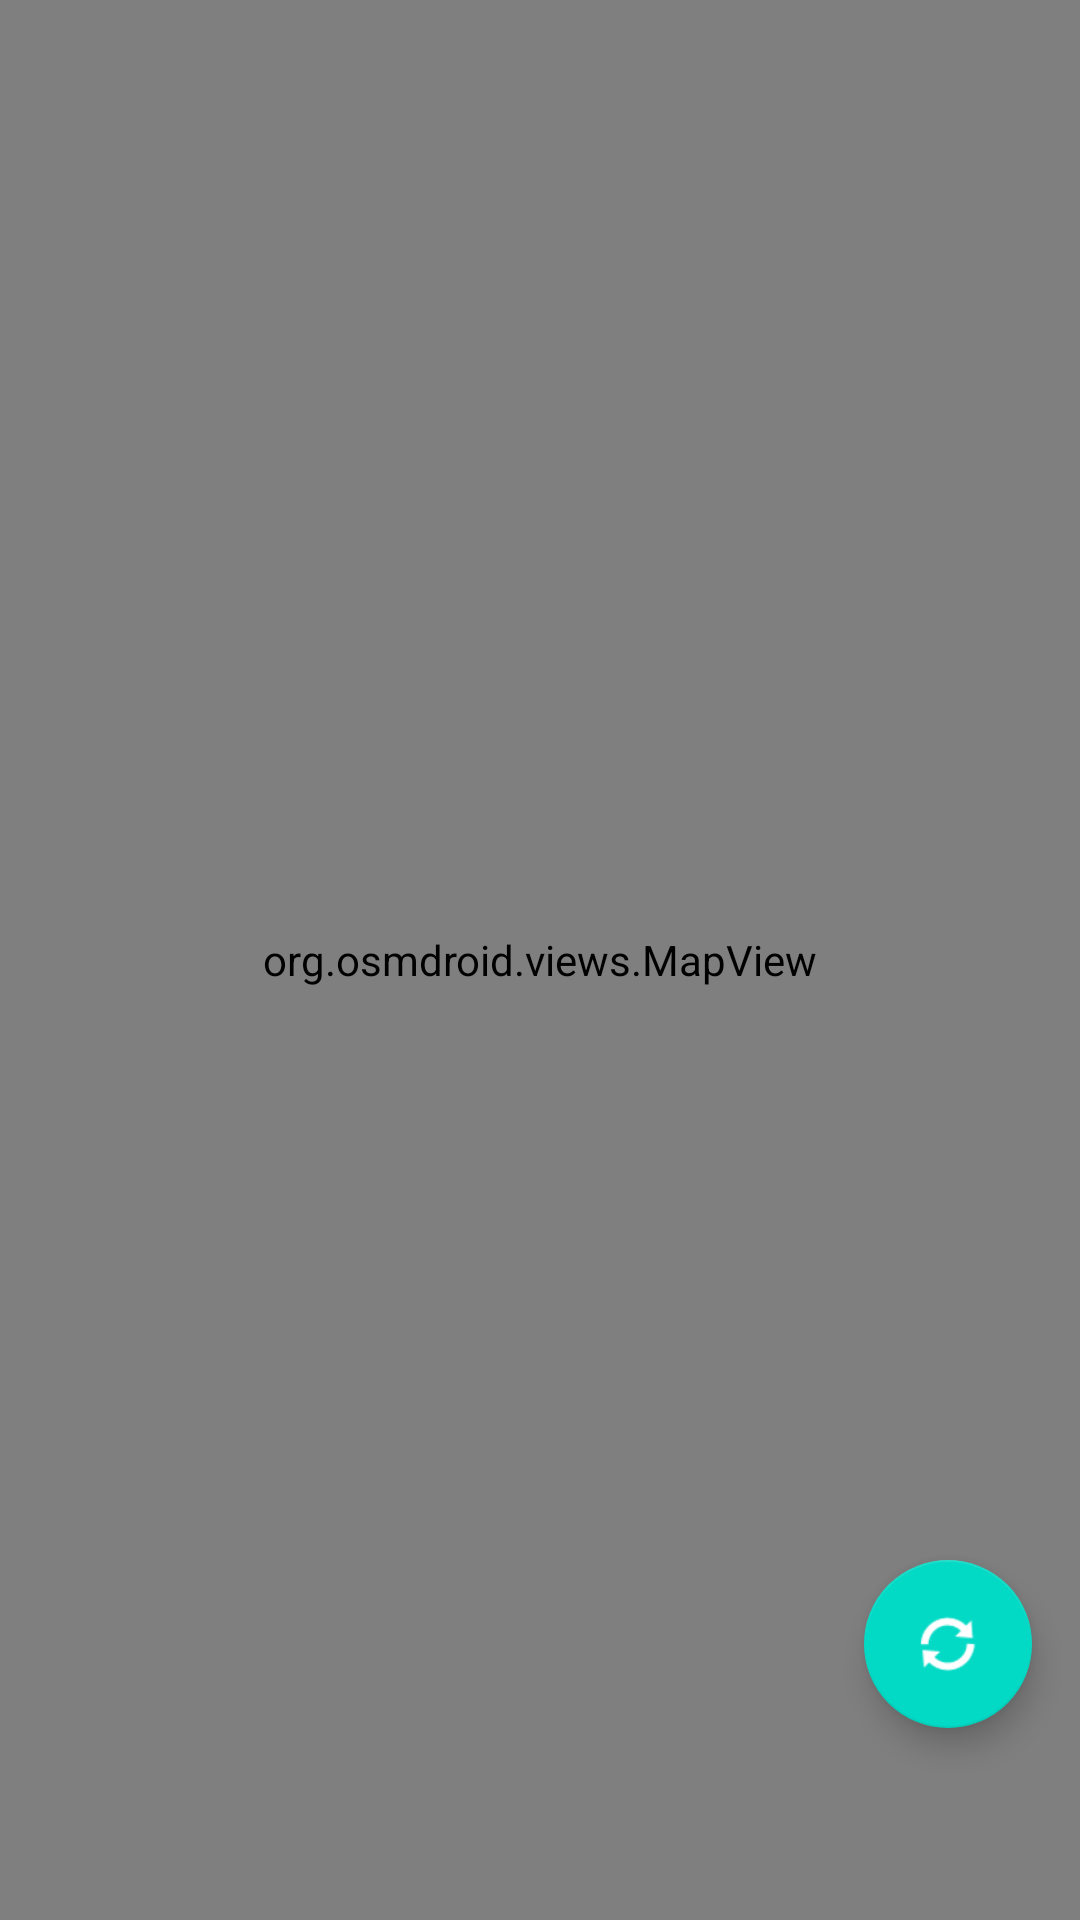

Icons on this 1080w x 1920h Android screen, each with the point to tap as (x=x, y=y):
popup sync: (x=948, y=1644)
